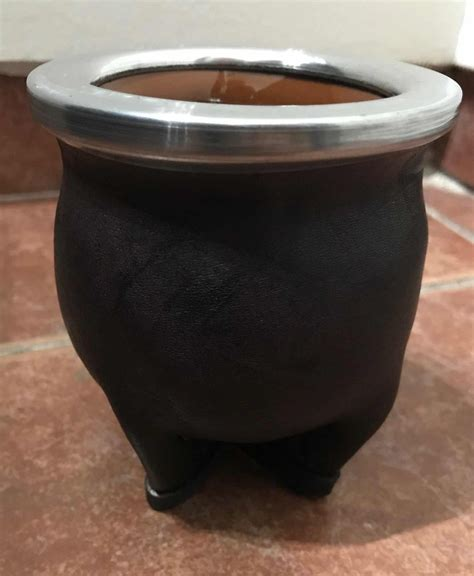cuero: (47, 135, 433, 514)
